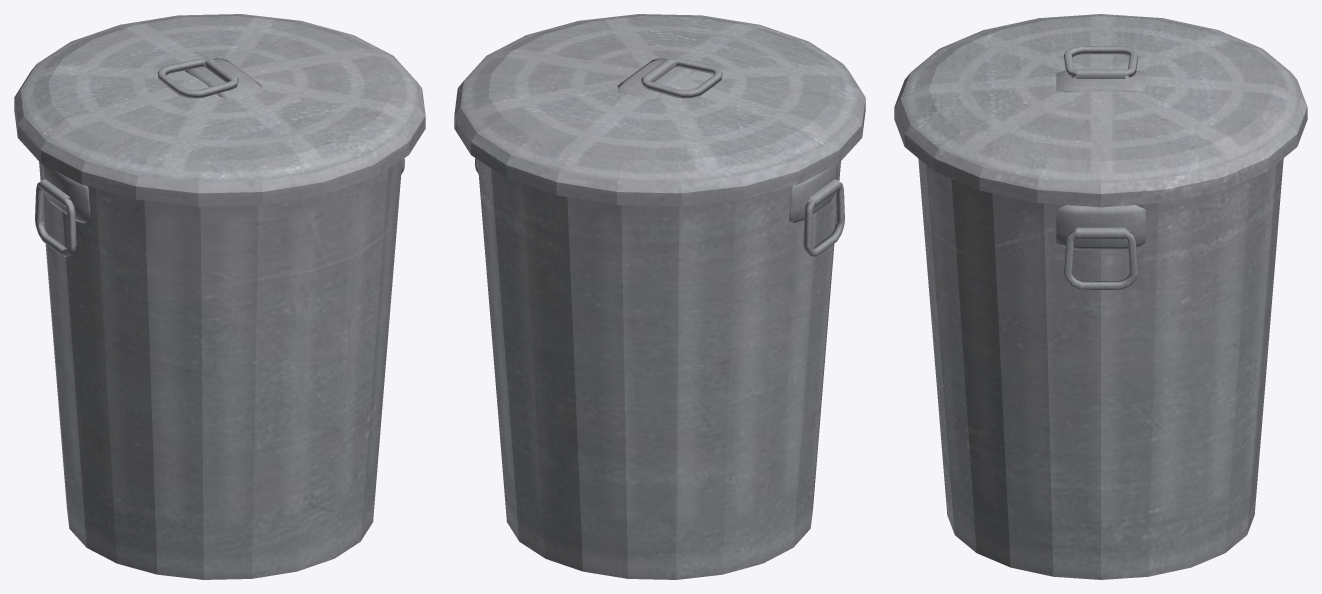
Rendered from c2_bin.fbx.
The picture shows the model from 3 angles, left to right: view 1: azimuth 30°, elevation 25°; view 2: azimuth 150°, elevation 25°; view 3: azimuth 270°, elevation 25°; orthographic projection.
Parts seen in each view (by area): view 1: Mesh, Mesh (2); view 2: Mesh, Mesh (2); view 3: Mesh, Mesh (2).
Boxes of the visible parts, left/top/right/bottom form: Mesh: left=14, top=14, right=425, bottom=579; Mesh (2): left=35, top=57, right=404, bottom=256; Mesh: left=454, top=14, right=865, bottom=579; Mesh (2): left=475, top=57, right=844, bottom=256; Mesh: left=894, top=14, right=1307, bottom=579; Mesh (2): left=1056, top=46, right=1145, bottom=290.
Bounding box in the file's own units: 45.67 × 54.4 × 45.67.
